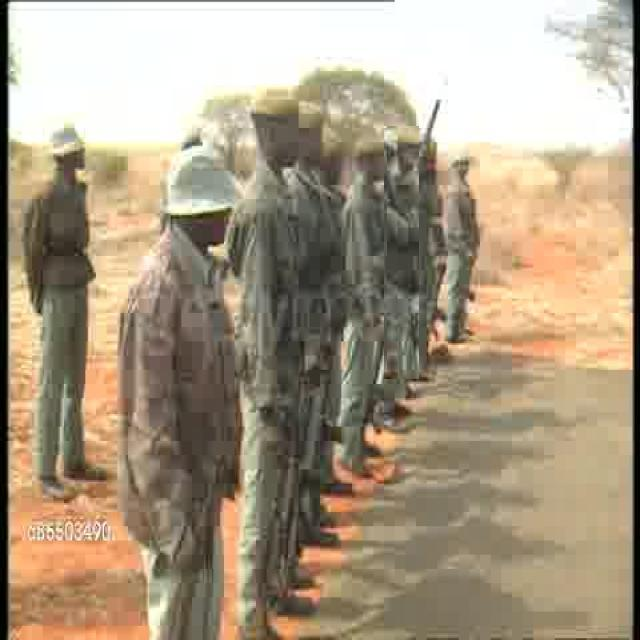poacher: (108, 131, 251, 601), (12, 130, 111, 508), (238, 61, 306, 600), (344, 140, 387, 457), (384, 126, 419, 379), (444, 151, 476, 345)
weapon: (410, 109, 438, 204)
